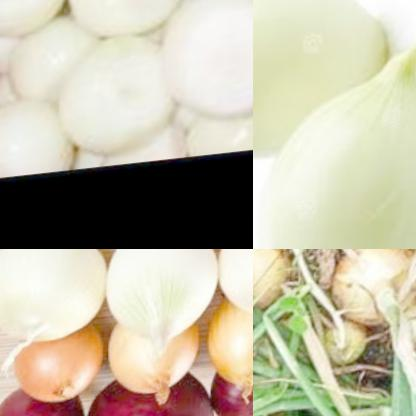onion: (0, 0, 253, 182), (253, 47, 416, 249), (253, 0, 399, 183), (109, 249, 222, 360), (0, 249, 109, 349), (104, 320, 210, 414), (318, 249, 416, 337), (11, 324, 107, 412), (83, 370, 216, 416), (208, 298, 253, 408), (253, 249, 306, 340), (212, 249, 253, 340), (0, 385, 92, 416), (209, 361, 253, 416)
